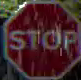Stop: (3, 3, 80, 77)
